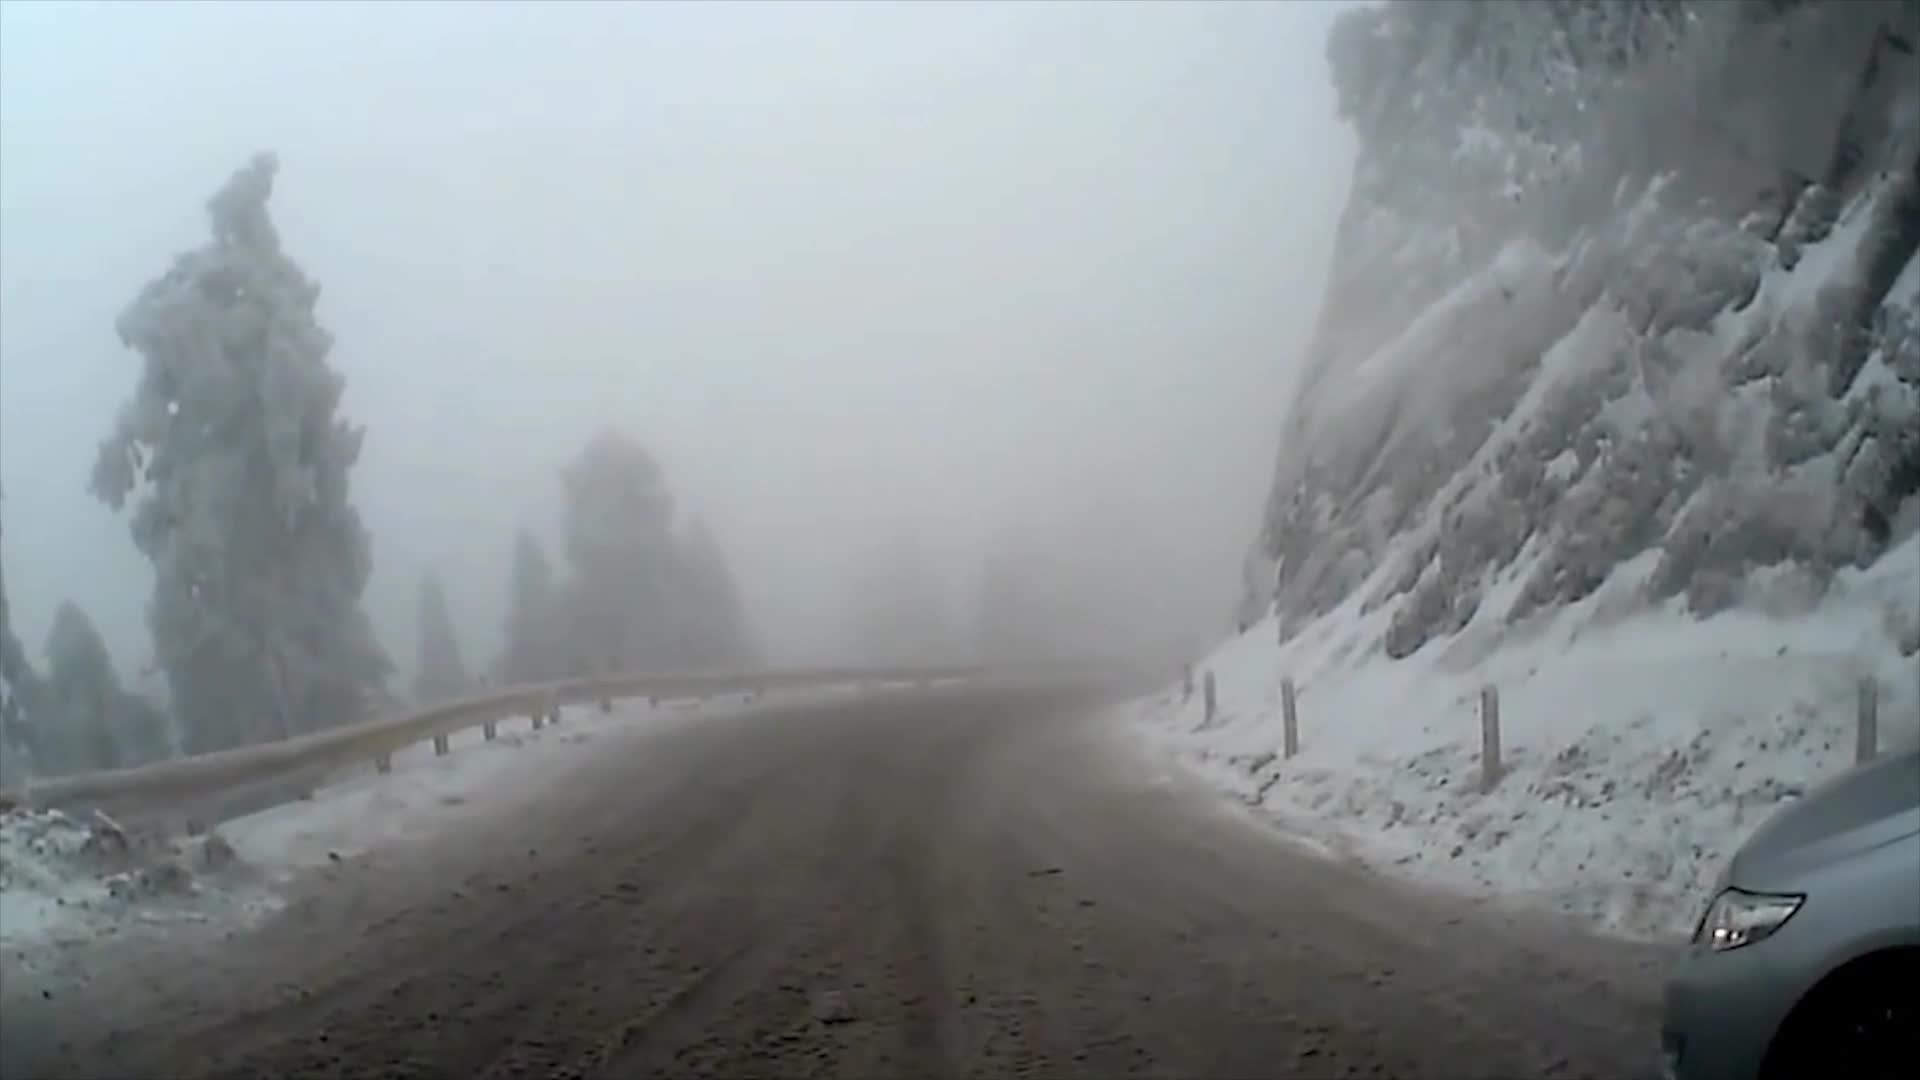vehicle: (1654, 733, 1920, 1080)
